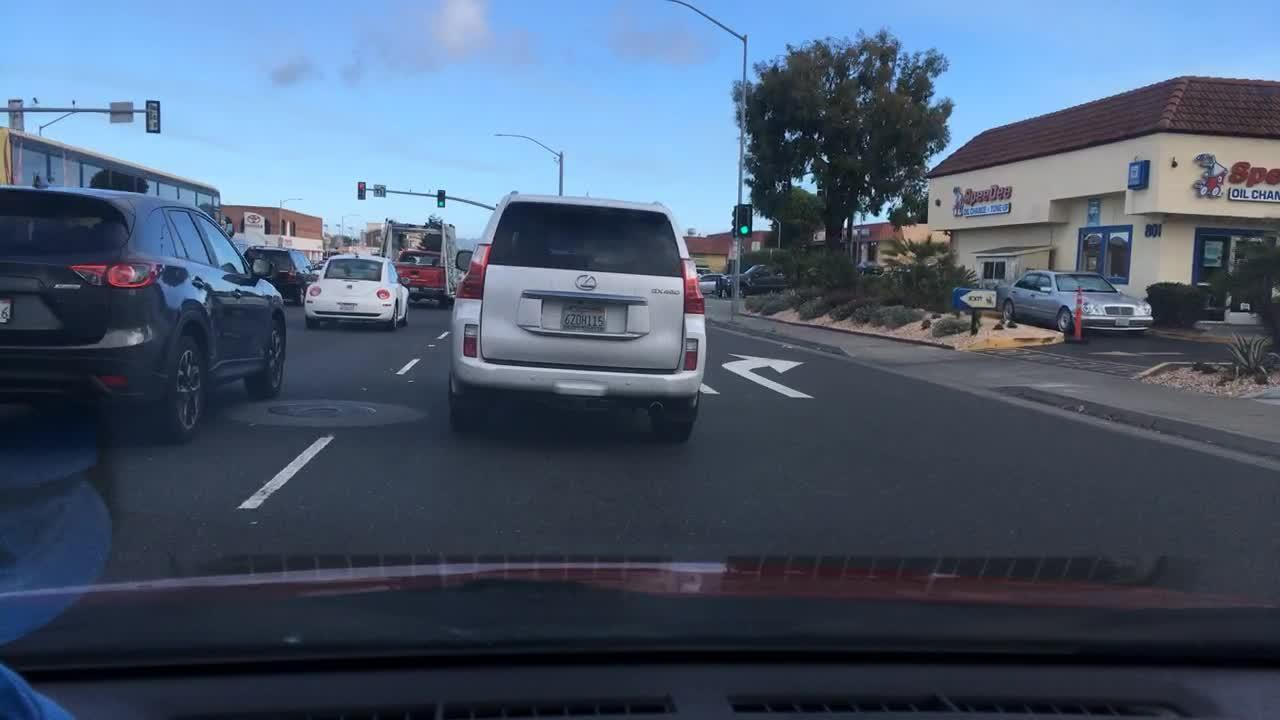lexus: (571, 267, 603, 301)
